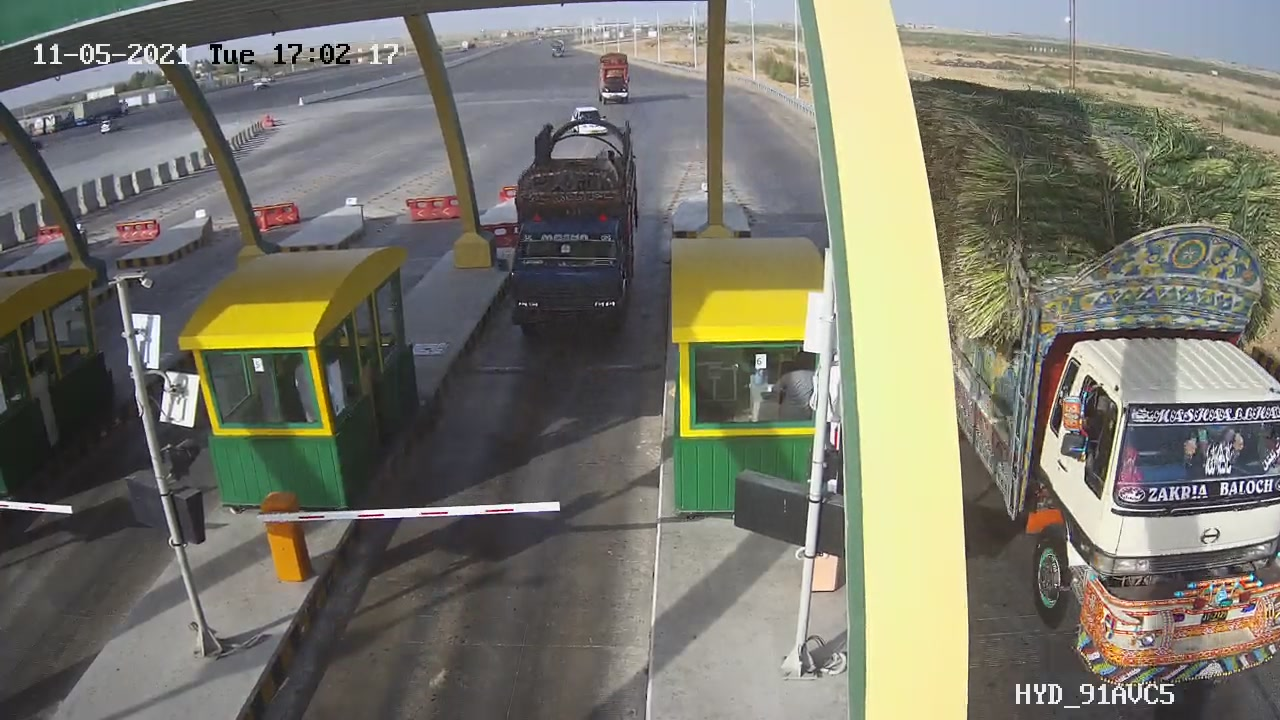F5: (492, 104, 659, 353)
